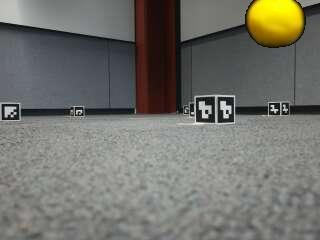lemon: (246, 0, 304, 47)
